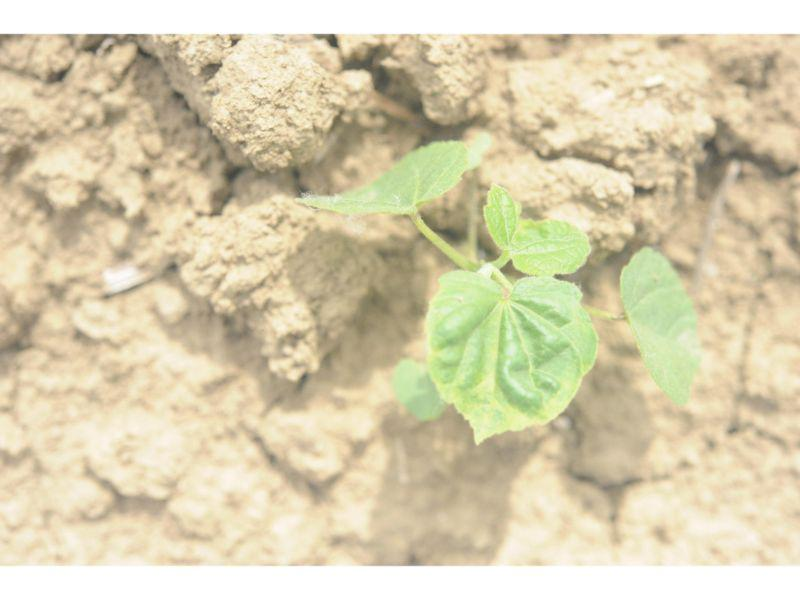velvet: (295, 138, 703, 447)
